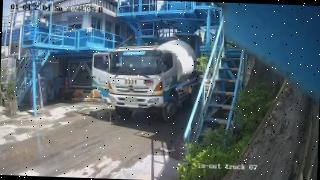cement_mixer_truck: (92, 39, 203, 121)
